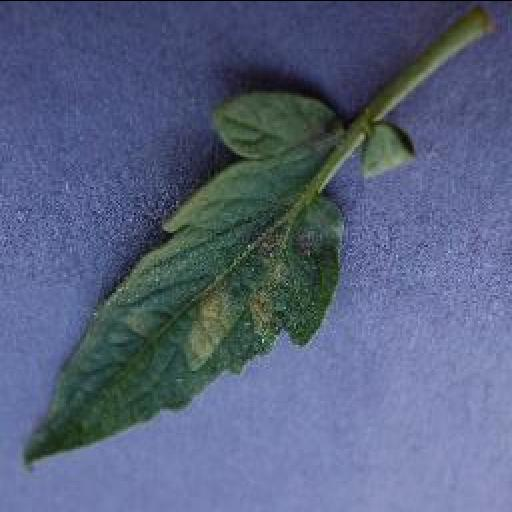disease_tomato: (19, 90, 349, 460)
